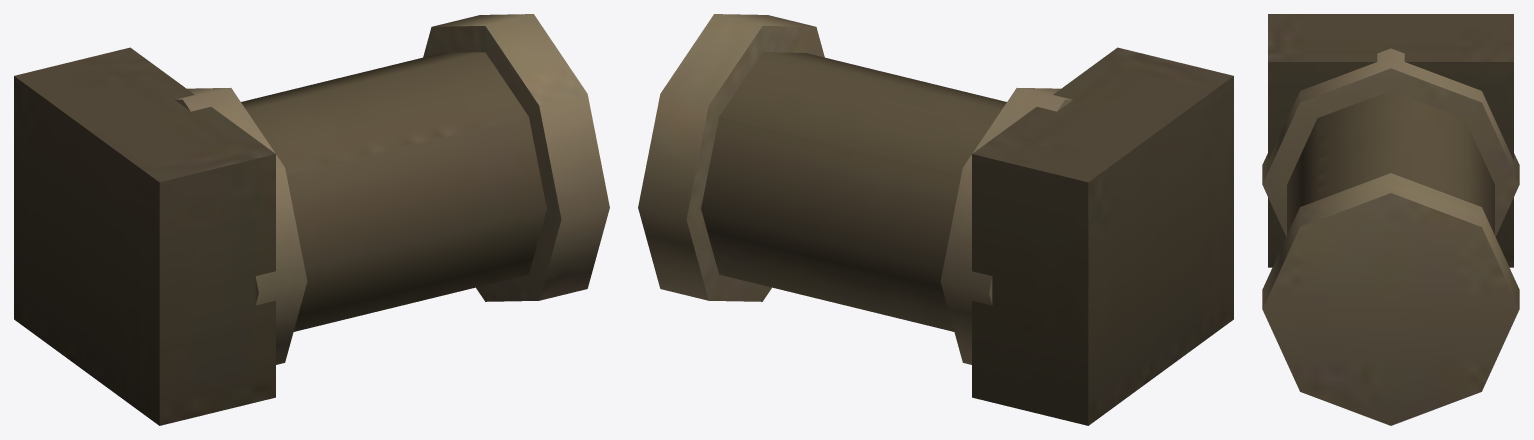
The model's file is pipe-to-ground.glb.
The picture shows the model from 3 angles, left to right: view 1: azimuth 30°, elevation 25°; view 2: azimuth 150°, elevation 25°; view 3: azimuth 270°, elevation 25°; orthographic projection. The views are drawn at different scales.
Parts seen in each view (by area): view 1: pipe-to-ground; view 2: pipe-to-ground; view 3: pipe-to-ground.
Boxes of the visible parts, x1,y1,x2,y2 form: pipe-to-ground: (14, 14, 609, 425); pipe-to-ground: (638, 14, 1233, 425); pipe-to-ground: (1262, 14, 1519, 425).
Bounding box in the file's own units: 0.2305 × 0.136 × 0.136.
Materials: 1 (1 with a texture image).
